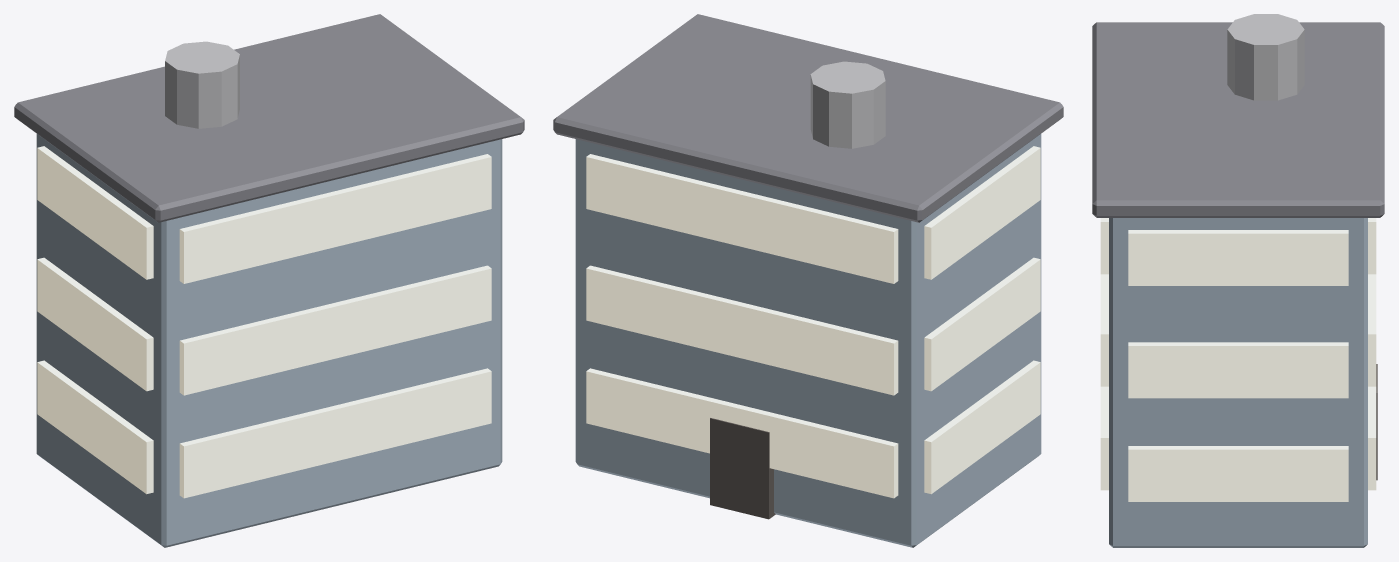
File: bld_1_2.glb
The picture shows the model from 3 angles, left to right: view 1: azimuth 30°, elevation 25°; view 2: azimuth 150°, elevation 25°; view 3: azimuth 270°, elevation 25°; orthographic projection.
Parts seen in each view (by area): view 1: w, rf, bz2, bz2.001, bz2.002, bx2.001, bx2.002, bx2, tank; view 2: w, rf, bz1.001, bz1.002, bz1, bx2.001, bx2.002, bx2, tank, door; view 3: rf, w, bx1.001, bx1, bx1.002, tank, bz1.001, bz2.001, bz1, bz2, bz1.002, bz2.002.
Part boxes in pixels (bbox=[...]): w: bbox=[36, 134, 502, 547]; rf: bbox=[14, 14, 524, 222]; bz2: bbox=[179, 368, 491, 498]; bz2.001: bbox=[179, 265, 491, 395]; bz2.002: bbox=[179, 154, 491, 283]; bx2.001: bbox=[37, 257, 153, 391]; bx2.002: bbox=[37, 146, 153, 279]; bx2: bbox=[37, 360, 153, 494]; tank: bbox=[165, 41, 239, 128]; w: bbox=[575, 134, 1041, 547]; rf: bbox=[553, 14, 1063, 222]; bz1.001: bbox=[586, 265, 898, 395]; bz1.002: bbox=[586, 154, 898, 283]; bz1: bbox=[586, 368, 898, 498]; bx2.001: bbox=[924, 257, 1040, 391]; bx2.002: bbox=[924, 146, 1040, 279]; bx2: bbox=[924, 360, 1040, 494]; tank: bbox=[810, 61, 885, 148]; door: bbox=[710, 418, 775, 519]; rf: bbox=[1092, 22, 1384, 217]; w: bbox=[1109, 218, 1367, 547]; bx1.001: bbox=[1128, 342, 1348, 398]; bx1: bbox=[1128, 446, 1348, 501]; bx1.002: bbox=[1128, 230, 1348, 285]; tank: bbox=[1227, 14, 1304, 100]; bz1.001: bbox=[1368, 274, 1376, 386]; bz2.001: bbox=[1100, 274, 1108, 386]; bz1: bbox=[1368, 386, 1376, 490]; bz2: bbox=[1100, 386, 1108, 490]; bz1.002: bbox=[1368, 218, 1376, 274]; bz2.002: bbox=[1100, 218, 1108, 274].
Size of the model in its own units: 3.12 by 3.28 by 2.12.
